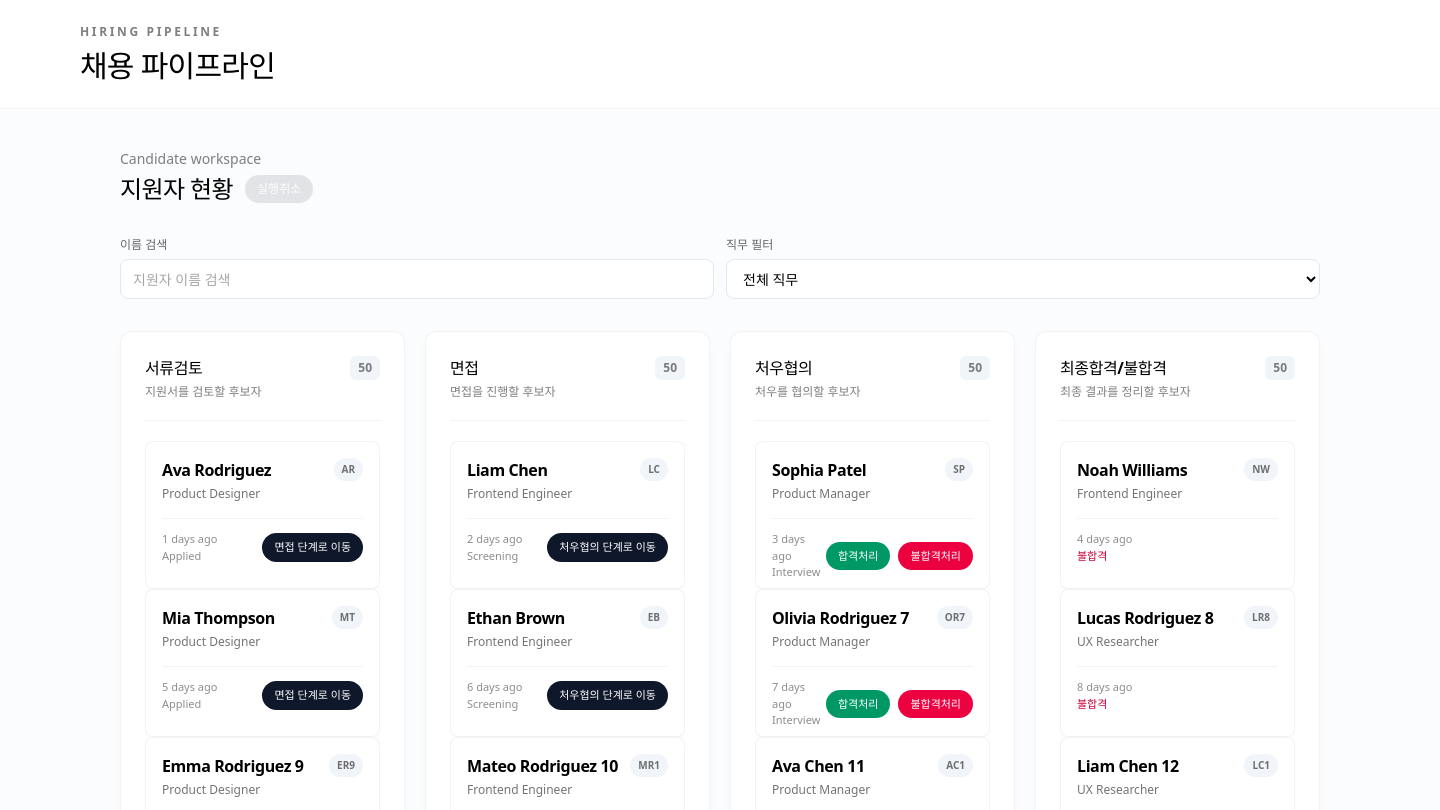
Test: Board › sorts a moved applicant to the top of the destination column
This screenshot has width=1440, height=810.
Click the 2nd button "면접 단계로 이동": click(313, 696) x1=262 y1=681 x2=363 y2=710
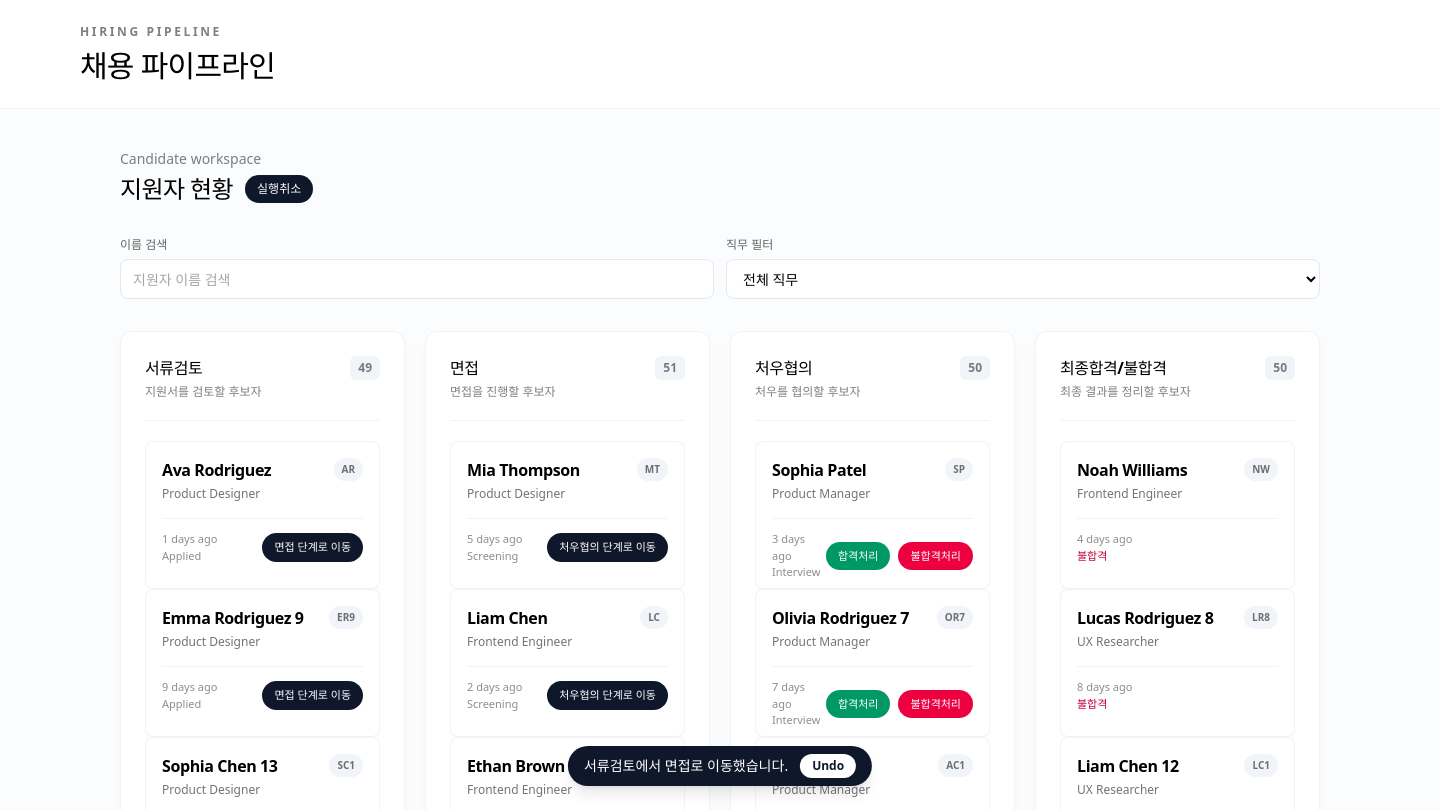
Result: the list item that starts with "Mia Thompson" is shown at x1=467 y1=459 x2=580 y2=481
